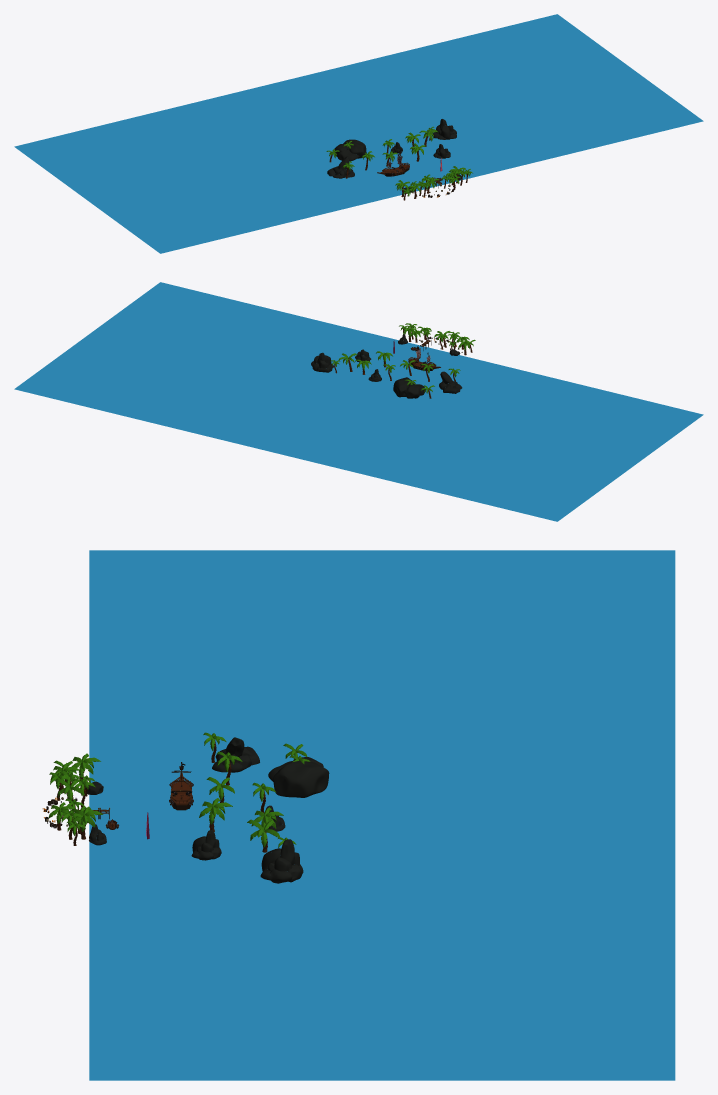
Rendered from level_4.glb.
3 renders of one model, top to bottom at view 1: azimuth 30°, elevation 25°; view 2: azimuth 150°, elevation 25°; view 3: azimuth 270°, elevation 25°, orthographic. The views are drawn at different scales.
Parts seen in each view (by area): view 1: Ortam_7, Ortam_6, Ortam_4, Ortam_5; view 2: Ortam_7, Ortam_6, Ortam_4, Ortam_5; view 3: Ortam_7, Ortam_6, Ortam_4, Ortam_5, Ortam_3.
Part boxes in pixels (x1,y1,x2,y2): Ortam_7: [14, 14, 703, 253]; Ortam_6: [327, 119, 456, 178]; Ortam_4: [400, 166, 468, 200]; Ortam_5: [377, 150, 461, 196]; Ortam_7: [14, 282, 703, 521]; Ortam_6: [311, 349, 462, 398]; Ortam_4: [401, 323, 475, 352]; Ortam_5: [393, 334, 462, 370]; Ortam_7: [89, 550, 675, 1080]; Ortam_6: [191, 732, 329, 883]; Ortam_4: [53, 760, 103, 839]; Ortam_5: [66, 762, 193, 845]; Ortam_3: [50, 753, 119, 845].
Size of the model in its own units: 300 by 13 by 151.
3 materials, 2 textured.
